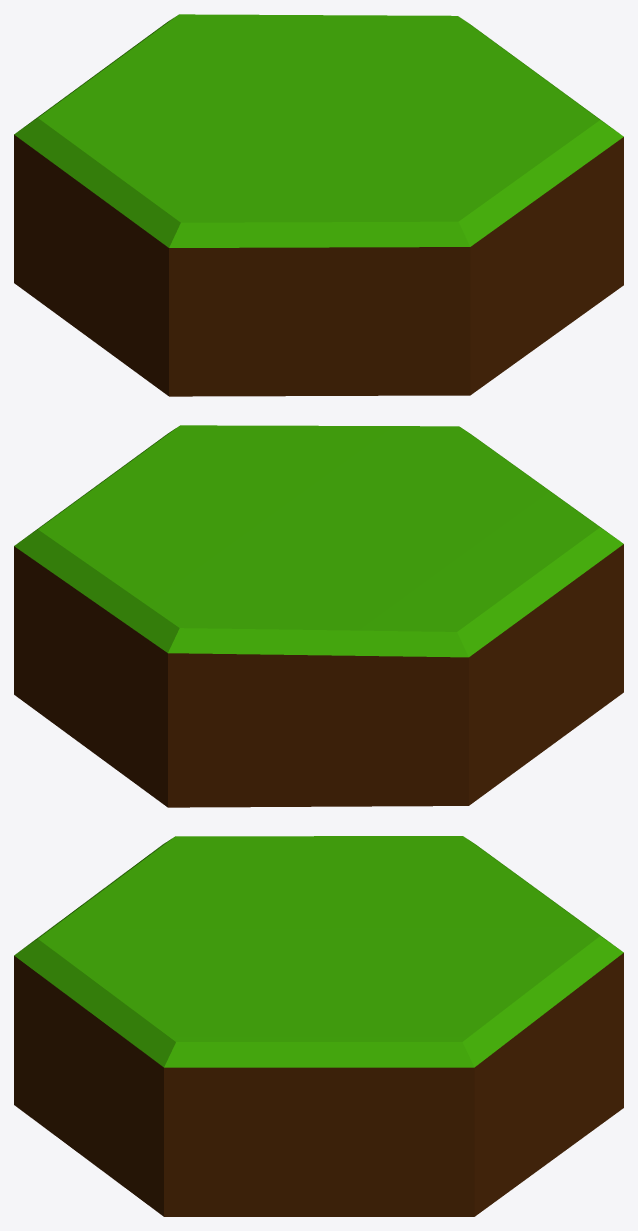
File: Hex_Mid.fbx
The picture shows the model from 3 angles, top to bottom: view 1: azimuth 30°, elevation 25°; view 2: azimuth 150°, elevation 25°; view 3: azimuth 270°, elevation 25°; orthographic projection.
Parts seen in each view (by area): view 1: pCube2; view 2: pCube2; view 3: pCube2.
Part boxes in pixels (<box>): pCube2: <box>14,14,623,396</box>; pCube2: <box>14,425,623,807</box>; pCube2: <box>14,836,623,1216</box>.
Size of the model in its own units: 4.33 by 1.55 by 5.
